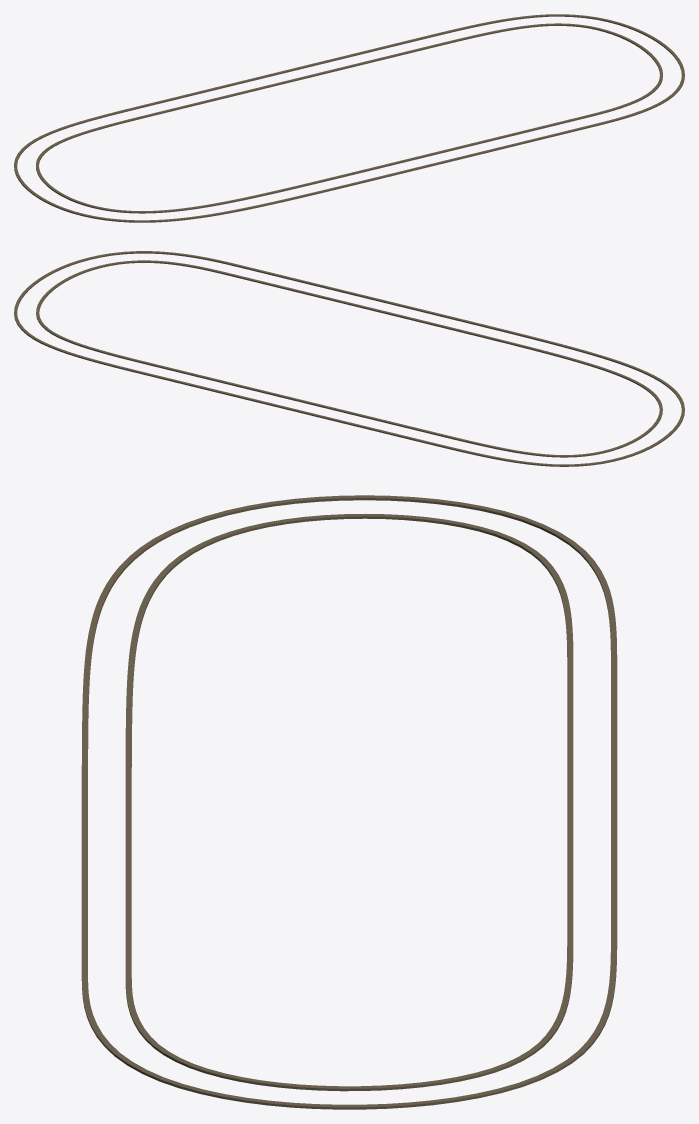
File: turnBorder.fbx
3 views of the same model, one above another, from view 1: azimuth 30°, elevation 25°; view 2: azimuth 150°, elevation 25°; view 3: azimuth 270°, elevation 25° (orthographic). The views are drawn at different scales.
Parts seen in each view (by area): view 1: Plane; view 2: Plane; view 3: Plane.
Part boxes in pixels (<box>): Plane: <box>14,14,684,222</box>; Plane: <box>14,251,684,466</box>; Plane: <box>81,495,617,1109</box>.
Size of the model in its own units: 1790 by 3.18 by 662.
